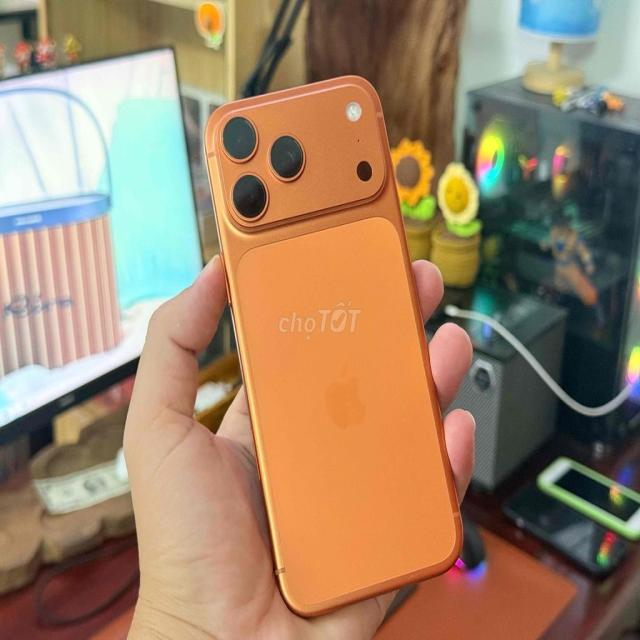scratch: (208, 76, 468, 613)
